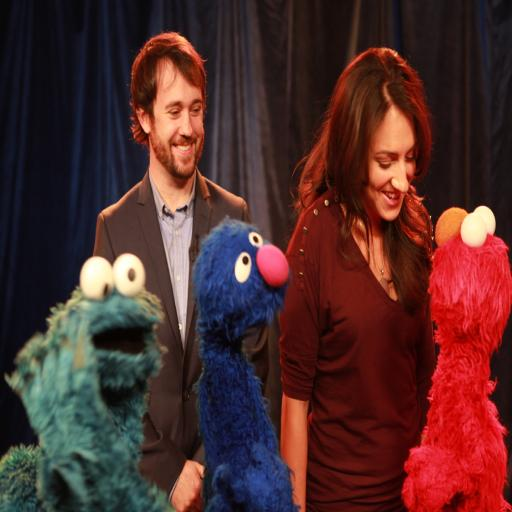Person: (44, 88, 302, 431), (255, 103, 512, 437)
no_gloves: (161, 383, 211, 427)
no_goggle: (354, 159, 426, 205), (151, 144, 209, 173)
no_helmet: (313, 103, 454, 254), (122, 98, 217, 218)
none: (276, 216, 444, 420), (83, 192, 262, 368)
